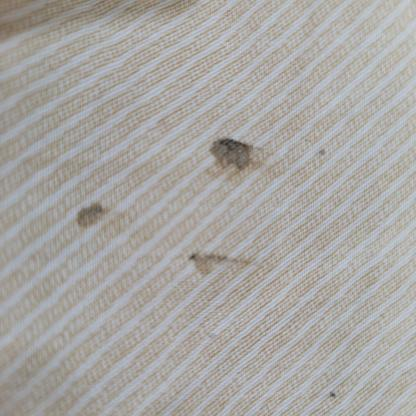spot: (186, 237, 280, 290), (195, 124, 278, 180), (67, 191, 119, 234), (314, 142, 331, 160)
